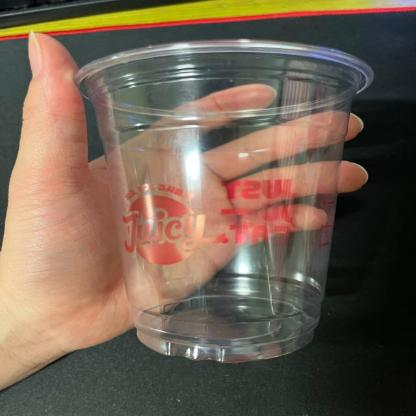Plastic Cup: (69, 34, 375, 362)
